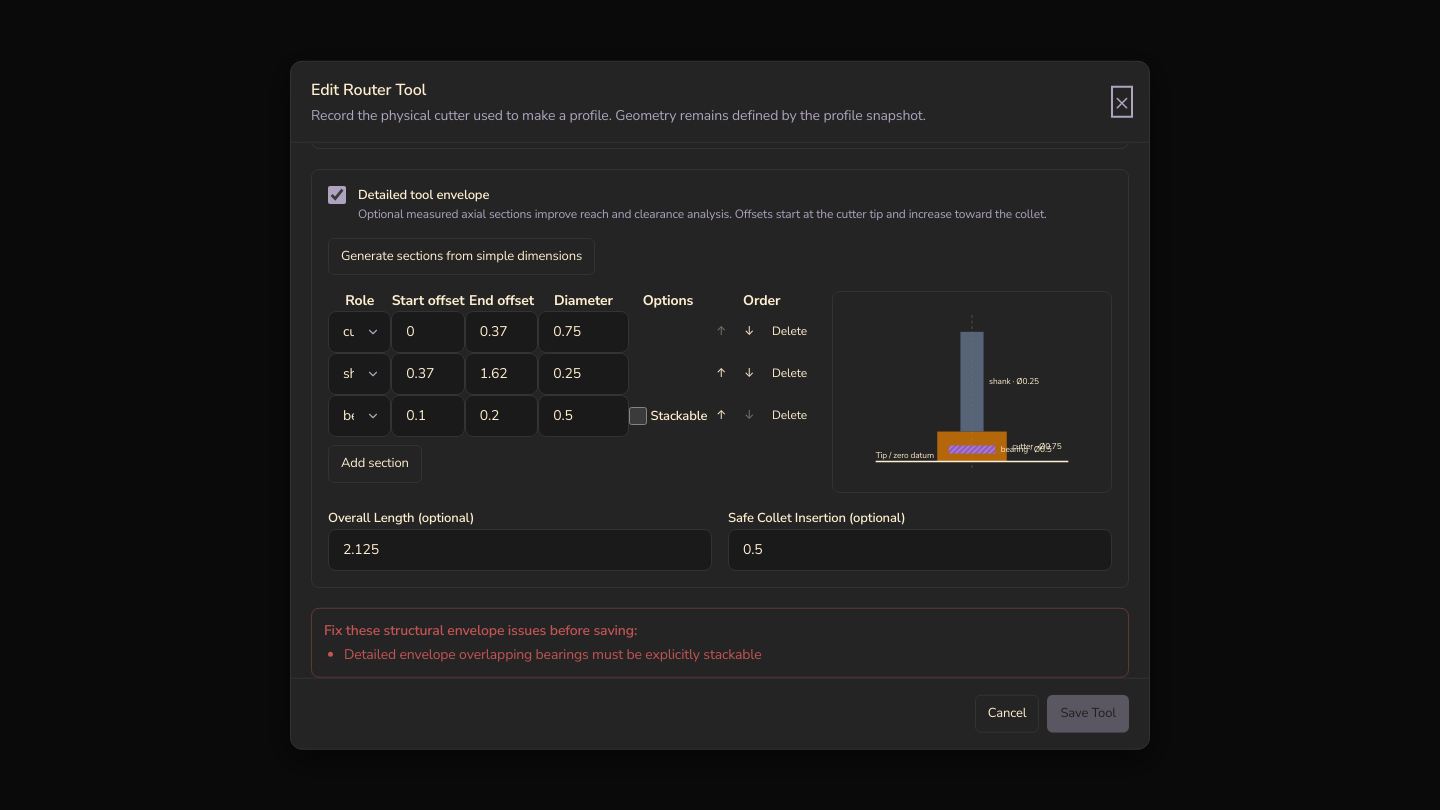
it: RouterToolDialog detailed envelope › blocks invalid overlaps and permits explicitly stackable bearings
(page scrolled)
Expected: the message shows "overlapping bearings must be explicitly stackable", [344,645,762,664]
Expected: the button "Save Tool" is disabled, [1047,695,1129,732]
Click the checkbox labelled "Stackable": [638, 416] box [628,407,646,425]
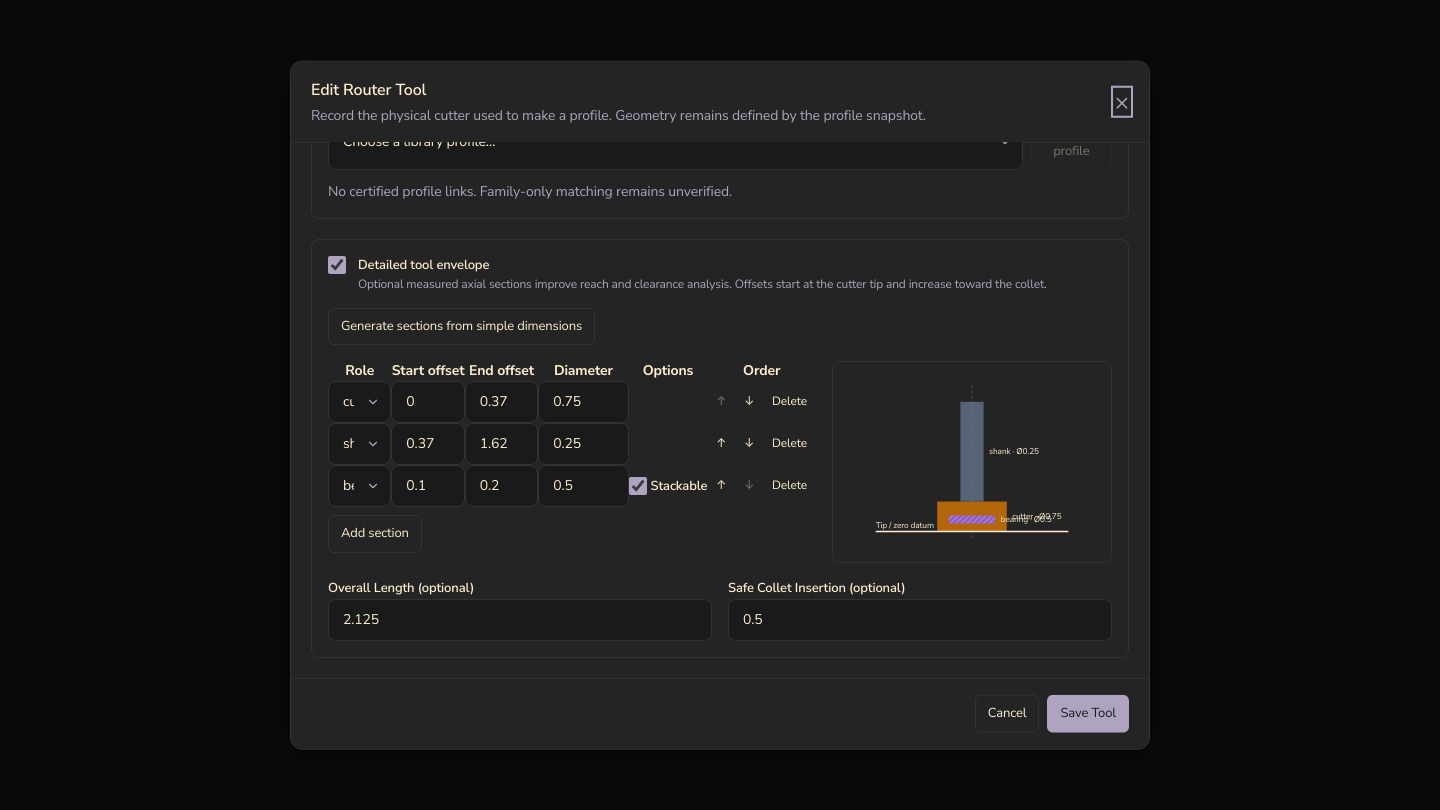
Expected: the message is gone
